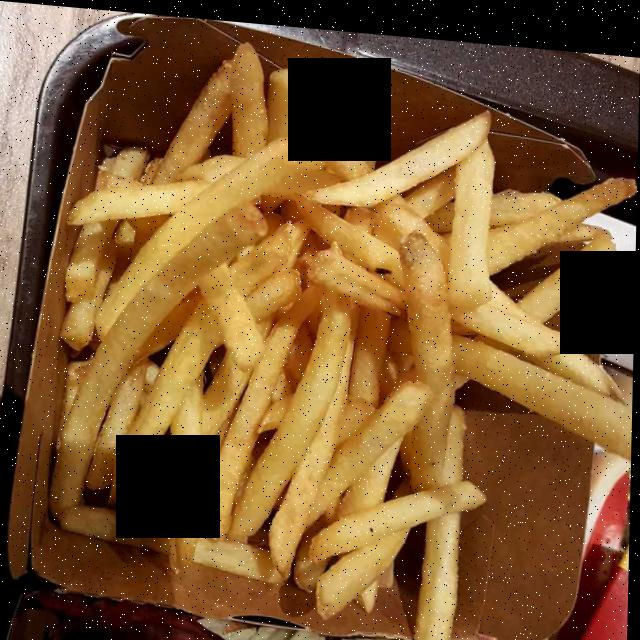chips-french-fries: (59, 50, 622, 640)
